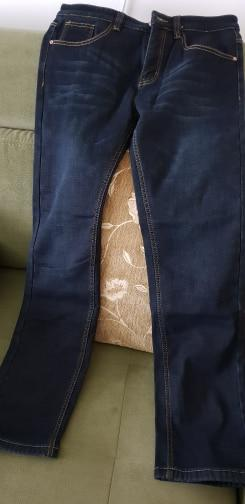jeans: (2, 3, 244, 464)
